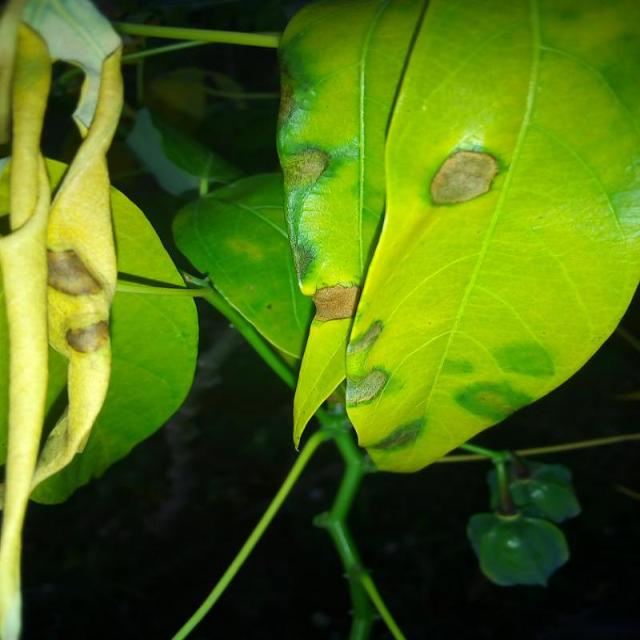cassava leaf: (274, 0, 638, 474), (0, 150, 200, 507), (170, 168, 314, 365)
